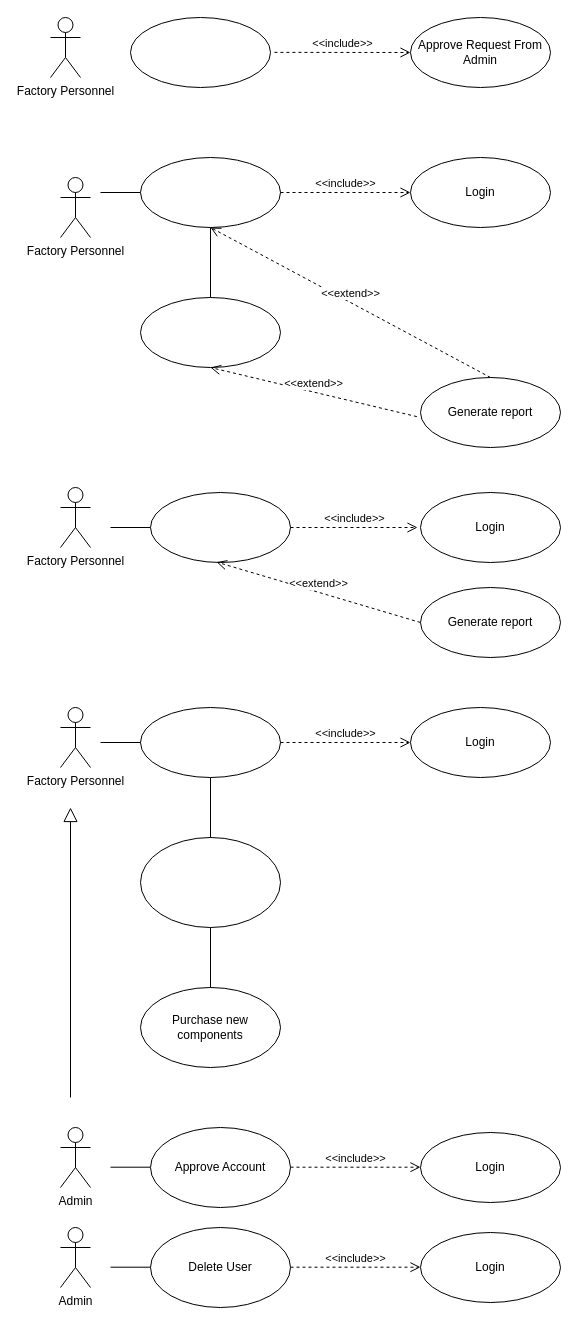
The diagram is 578 pixels wide and 1326 high, and some of its shapes have lost their labels. The centre of each missing label's shape, as x and y in pixels:
"Change components' working rate based on AI recommandation" belongs at point 210,332.
"Register" belongs at point 200,52.
"View available stock for affected components" belongs at point 210,882.
"View components' stats (ex: product rate)" belongs at point 210,192.
"View my changes history" belongs at point 220,527.
"View warnings about the system" belongs at point 210,742.
